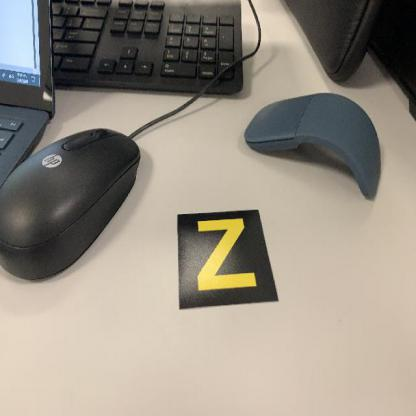z: (177, 209, 280, 311)
